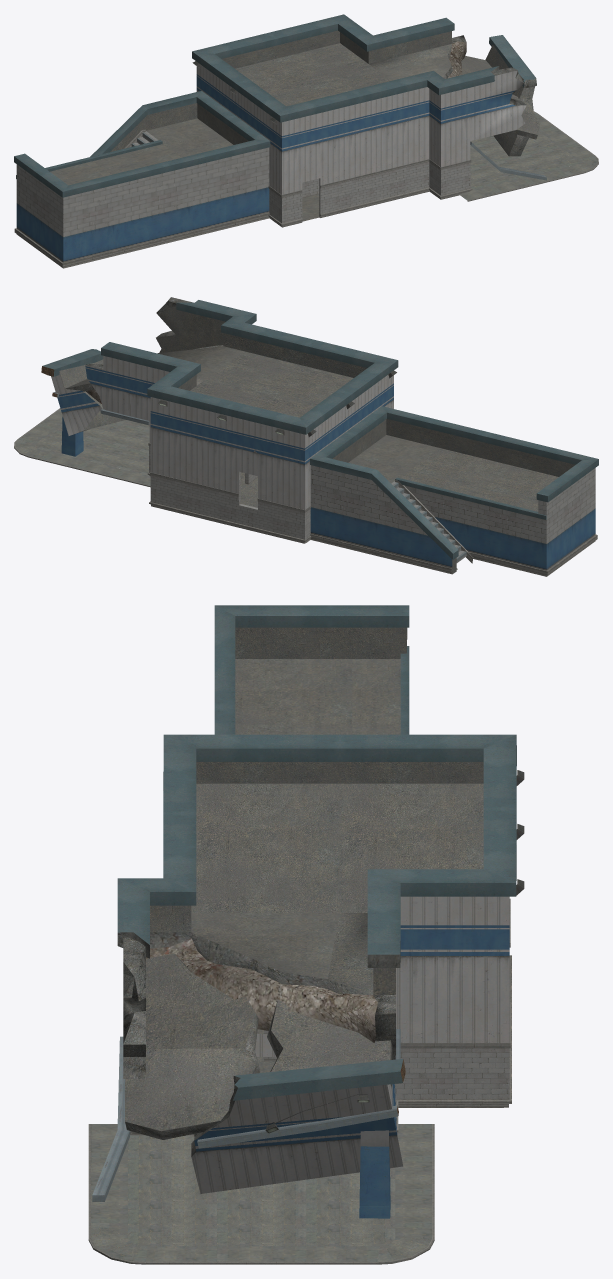
Rendered from Building_Fdc03_2048_lod1.glb.
The picture shows the model from 3 angles, top to bottom: view 1: azimuth 30°, elevation 25°; view 2: azimuth 150°, elevation 25°; view 3: azimuth 270°, elevation 25°; orthographic projection. The views are drawn at different scales.
Visible parts, largest first — view 1: xiutz_fdc_03_lod1; view 2: xiutz_fdc_03_lod1; view 3: xiutz_fdc_03_lod1.
Part boxes in pixels (box(x1,y1,x2,y2)): xiutz_fdc_03_lod1: box(14, 14, 598, 268); xiutz_fdc_03_lod1: box(14, 297, 598, 576); xiutz_fdc_03_lod1: box(88, 605, 524, 1264).
Bounding box in the file's own units: 43.34 × 9.45 × 15.86.
Materials: 1 (1 with a texture image).
